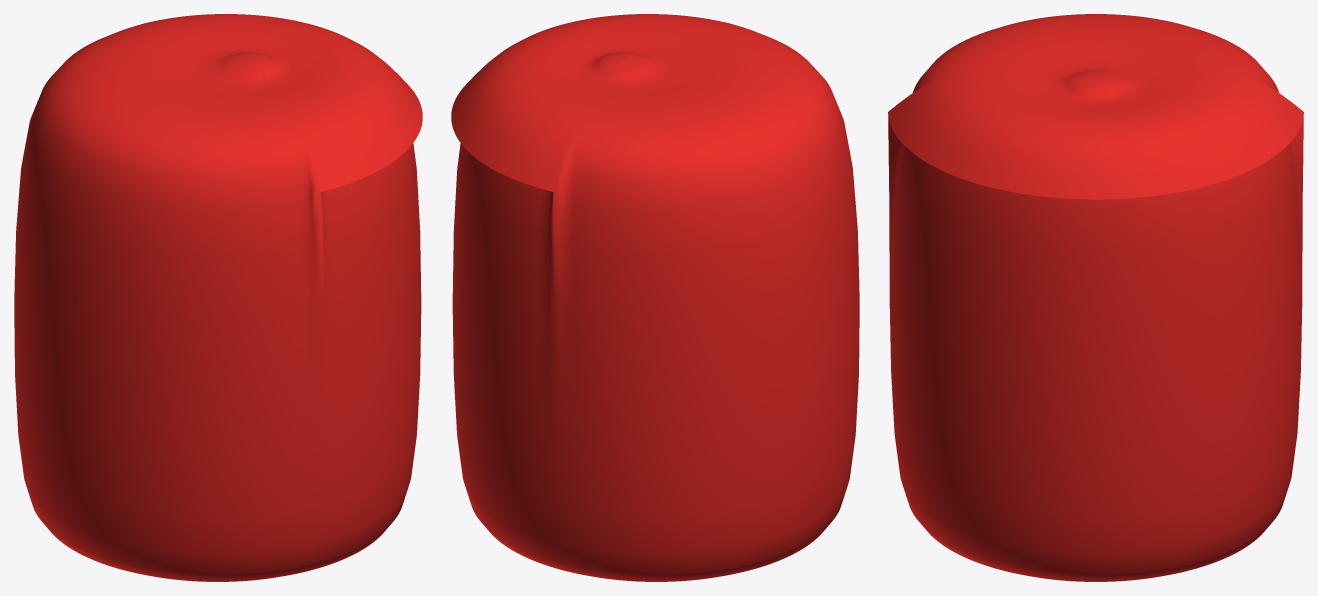
File: redCan.fbx
The picture shows the model from 3 angles, left to right: view 1: azimuth 30°, elevation 25°; view 2: azimuth 150°, elevation 25°; view 3: azimuth 270°, elevation 25°; orthographic projection.
Parts seen in each view (by area): view 1: Cylinder; view 2: Cylinder; view 3: Cylinder.
Part boxes in pixels (x1,y1,x2,y2): Cylinder: (14, 14, 422, 581); Cylinder: (451, 14, 859, 581); Cylinder: (888, 14, 1303, 581).
Size of the model in its own units: 9.94 by 12.03 by 10.
